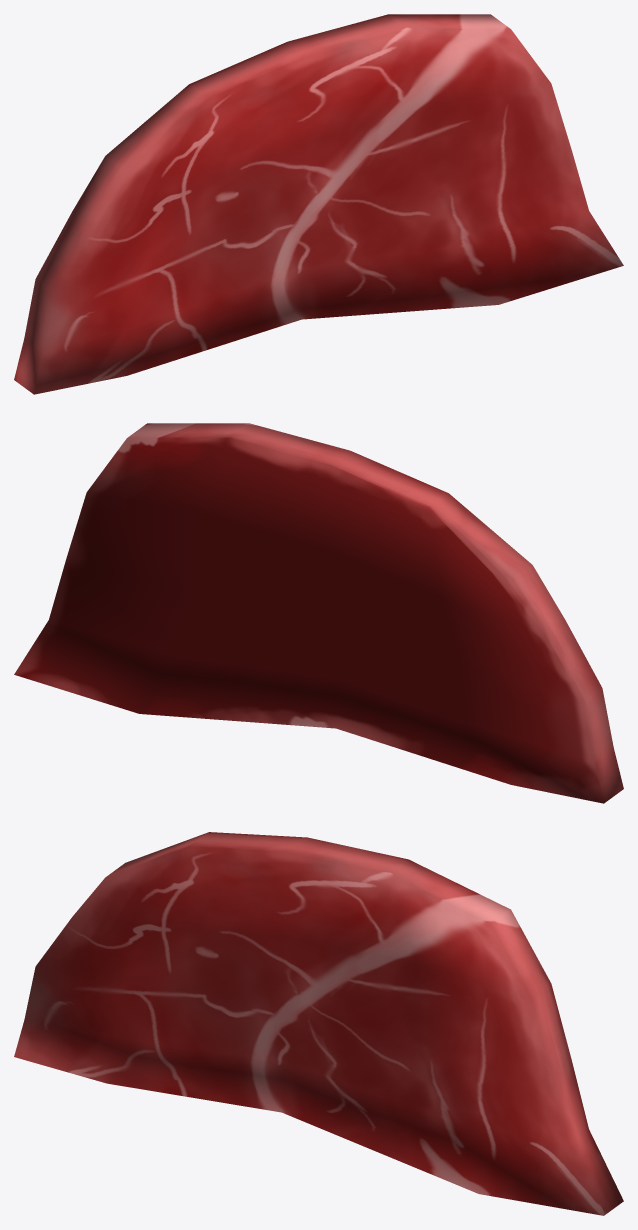
File: high_choice_haning.fbx
The picture shows the model from 3 angles, top to bottom: view 1: azimuth 30°, elevation 25°; view 2: azimuth 150°, elevation 25°; view 3: azimuth 330°, elevation 25°; orthographic projection.
Parts seen in each view (by area): view 1: high choice haning; view 2: high choice haning; view 3: high choice haning.
Part boxes in pixels (box(x1,y1,x2,y2)): high choice haning: box(14, 14, 623, 394); high choice haning: box(14, 423, 623, 803); high choice haning: box(14, 832, 623, 1215).
Size of the model in its own units: 70 by 33.78 by 4.12.
